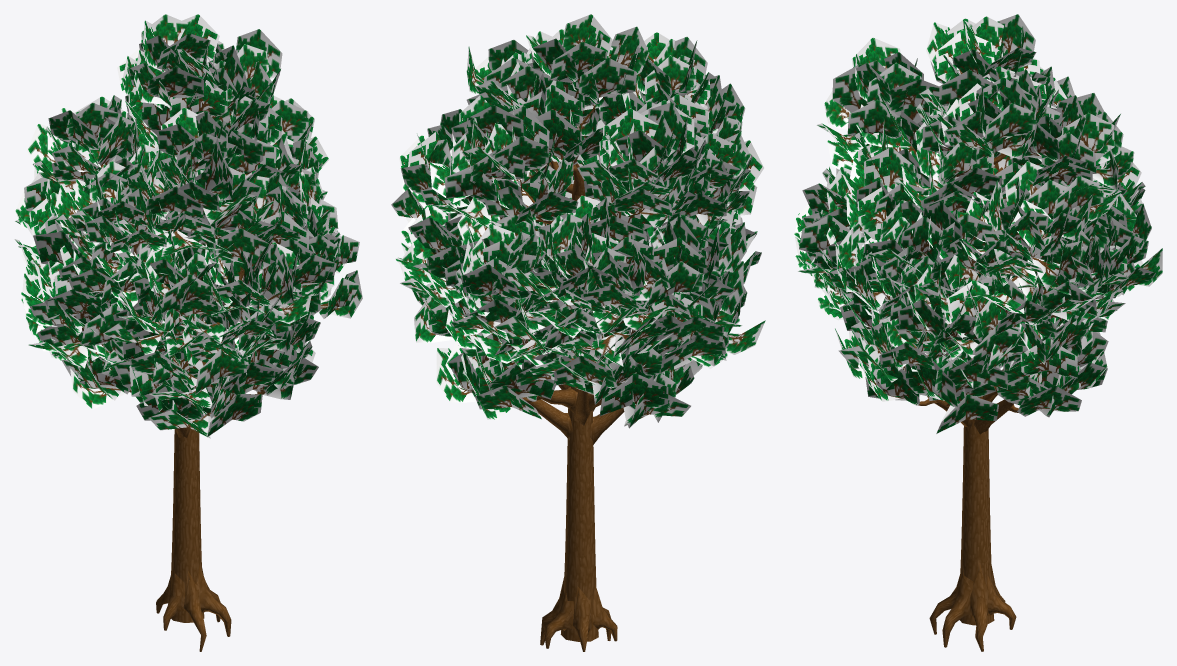
File: v2-medium-export.fbx
3 views of the same model, side by side, from view 1: azimuth 30°, elevation 25°; view 2: azimuth 150°, elevation 25°; view 3: azimuth 270°, elevation 25° (orthographic). The views are drawn at different scales.
Parts seen in each view (by area): view 1: MainTrunk, Stump; view 2: MainTrunk, Stump; view 3: MainTrunk, Stump.
Part boxes in pixels (x1=…): MainTrunk: x1=14, y1=14, x2=362, y2=543; Stump: x1=156, y1=537, x2=231, y2=651; MainTrunk: x1=391, y1=14, x2=765, y2=558; Stump: x1=540, y1=552, x2=617, y2=651; MainTrunk: x1=794, y1=14, x2=1162, y2=544; Stump: x1=929, y1=539, x2=1016, y2=651.
Bounding box in the file's own units: 763 × 1406 × 763.
